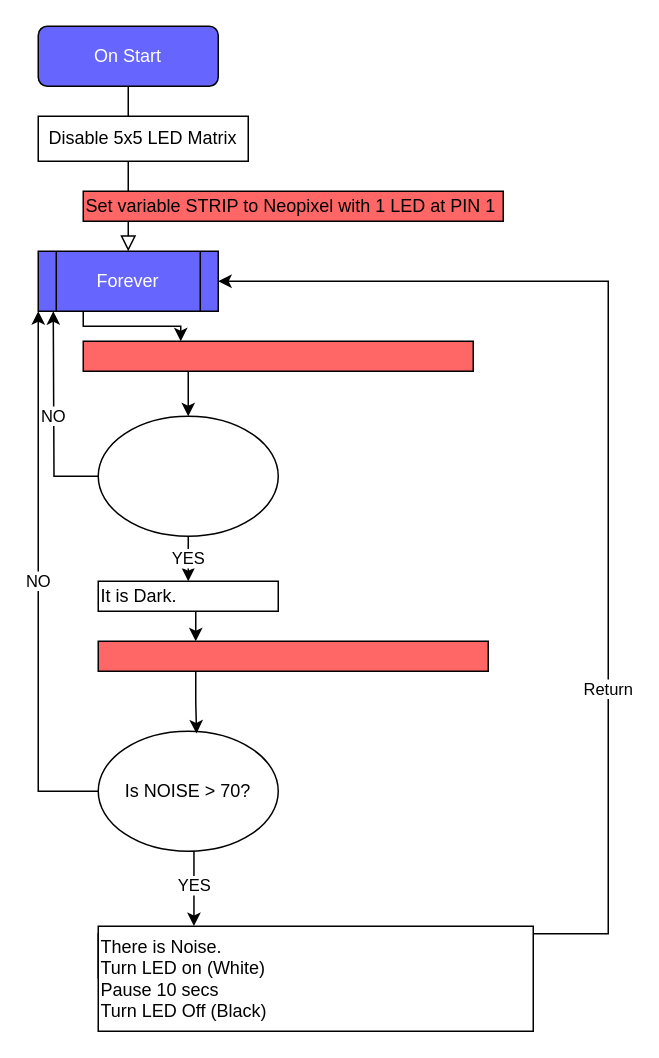
Image size: 659x1058. Some labels were removed from this diagram. The box of each missing label's shape, as (x1, y1, x2, y2) in pixels:
Is LIGHT < 50?: (97, 415, 278, 536)
Set variable LIGHT to sensor value at PIN 3: (82, 340, 473, 371)
Set variable NOISE to sensor value at PIN 2: (97, 640, 488, 671)
